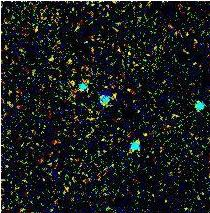star: (100, 79, 130, 109)
